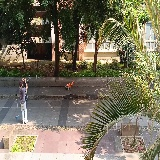fire: (66, 80, 74, 87)
